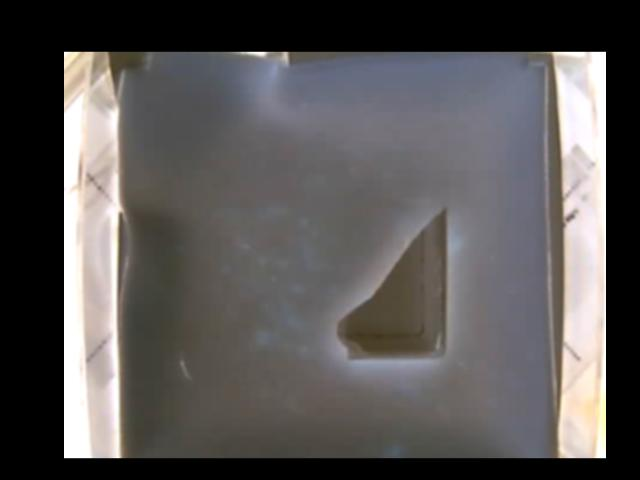China: (337, 205, 448, 359)
